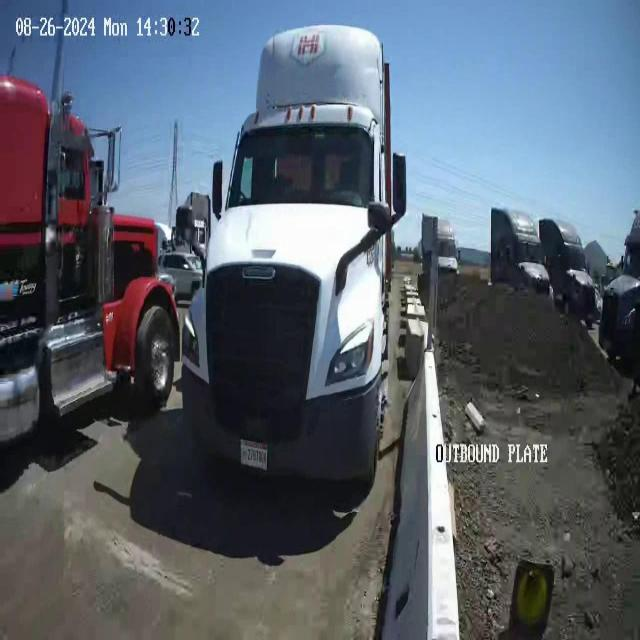TRUCK_IN: (175, 22, 407, 488)
